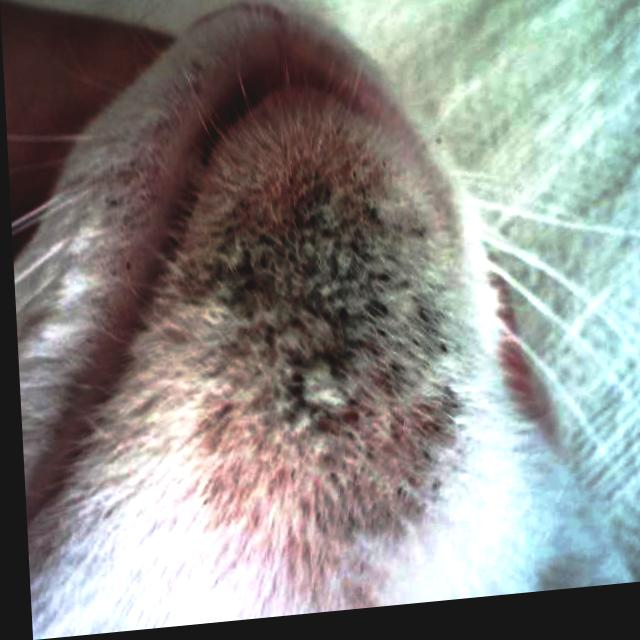acne: (226, 209, 415, 428)
